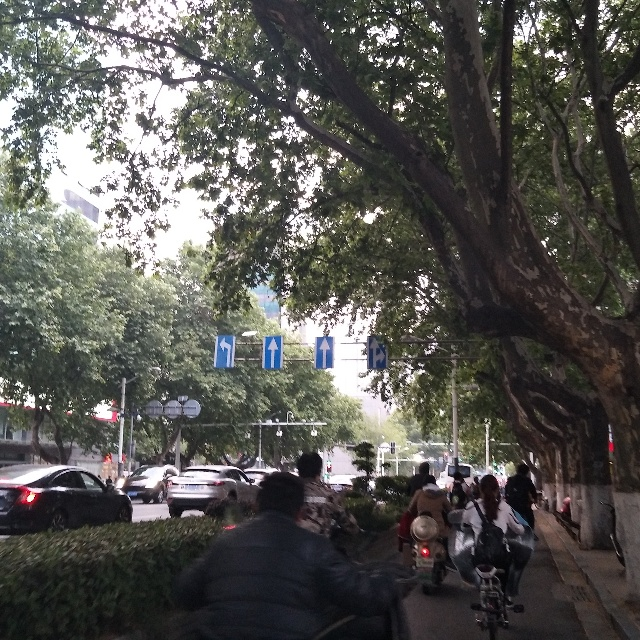left: (212, 331, 234, 372)
straight: (314, 333, 339, 373), (262, 335, 284, 372)
